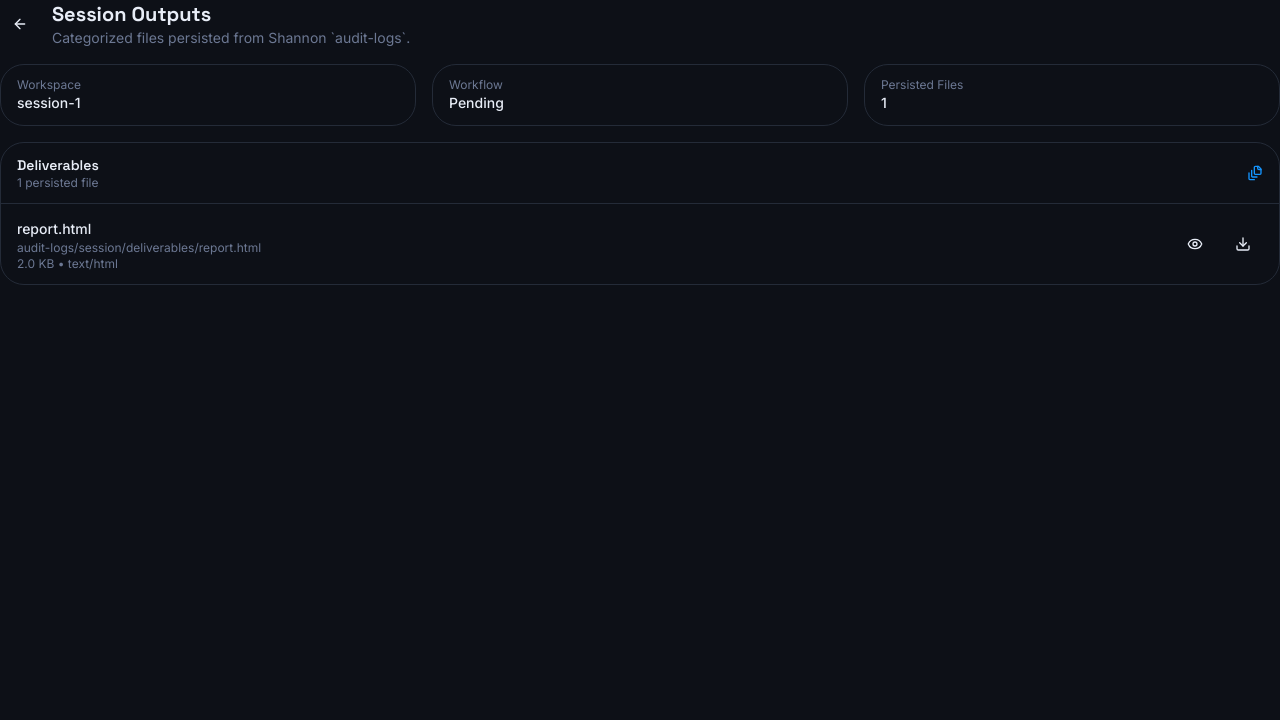
SessionArtifactsPage › shows html artifacts as source instead of executing them
The width and height of the screenshot is (1280, 720).
Click the button "report.html".
click(54, 229)  # box [17,219,91,239]
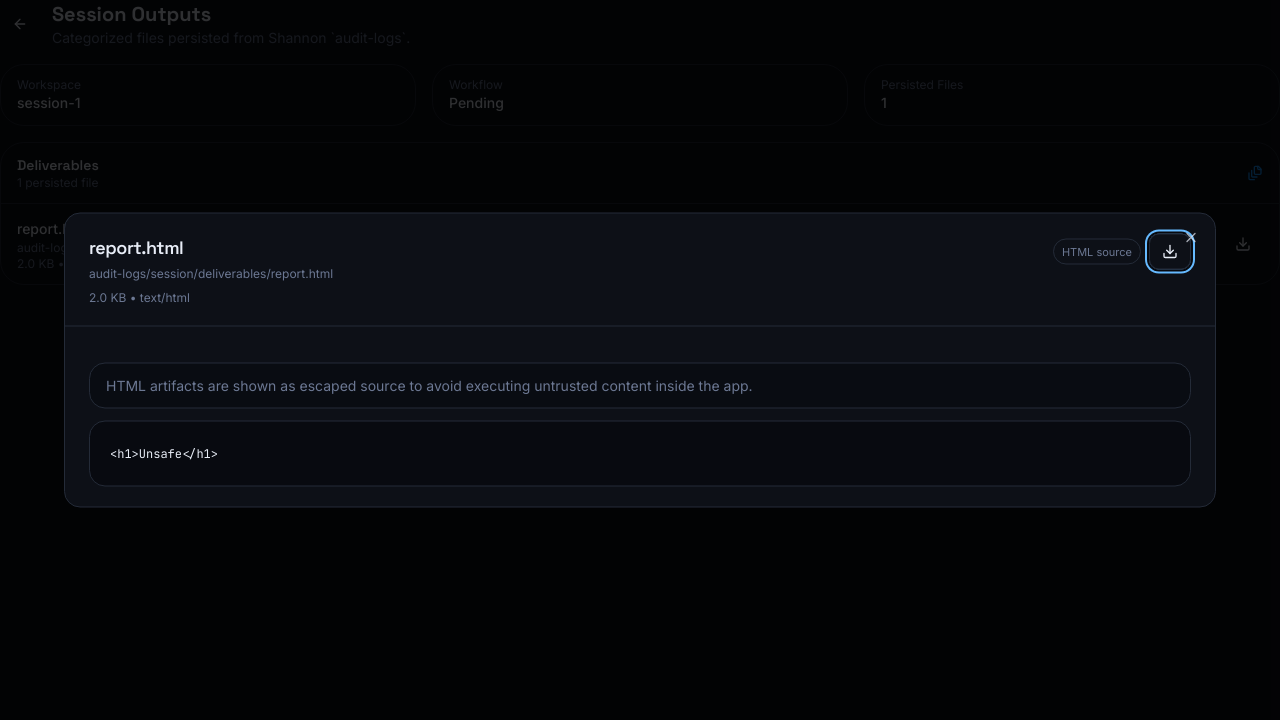
Check: the dialog is shown, box [64,212,1216,508]
Check: the text "HTML source" is shown, box [1053,238,1141,265]
